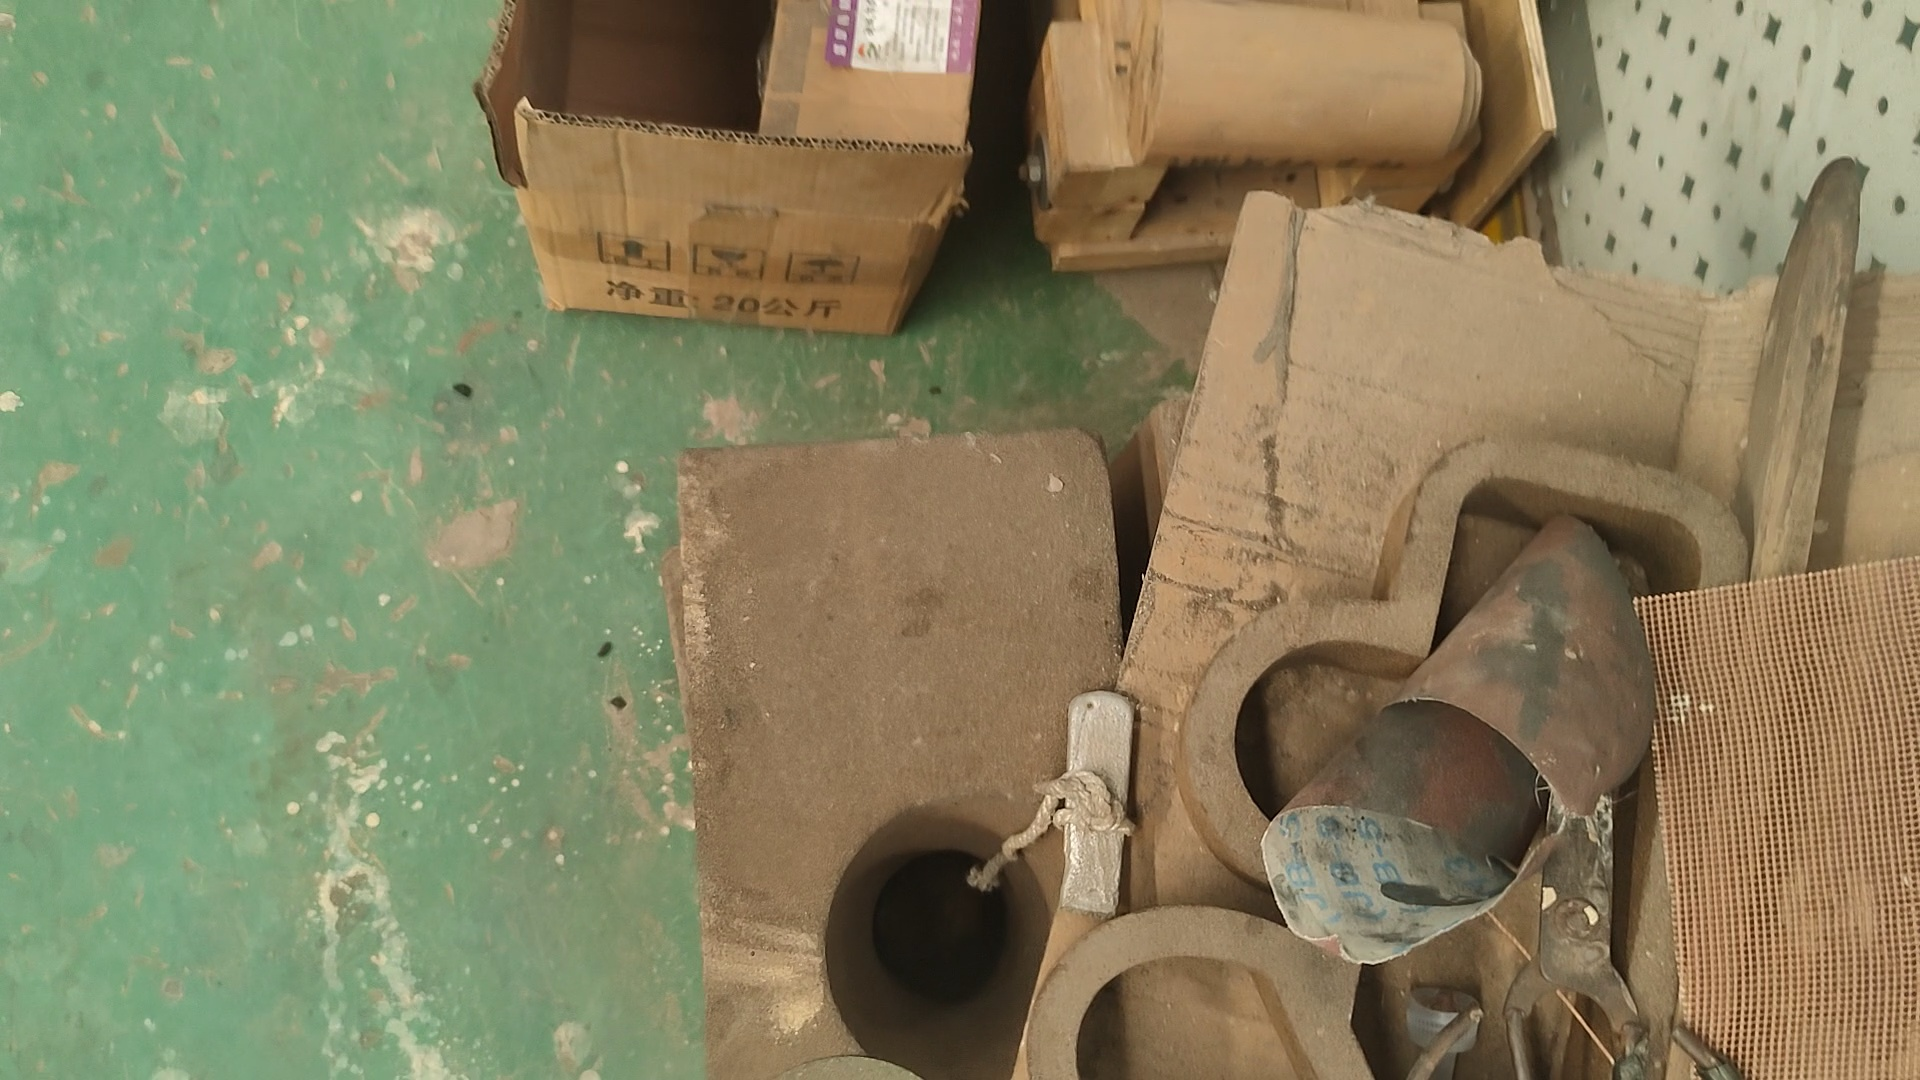pouring hole: (825, 804, 1051, 1075)
